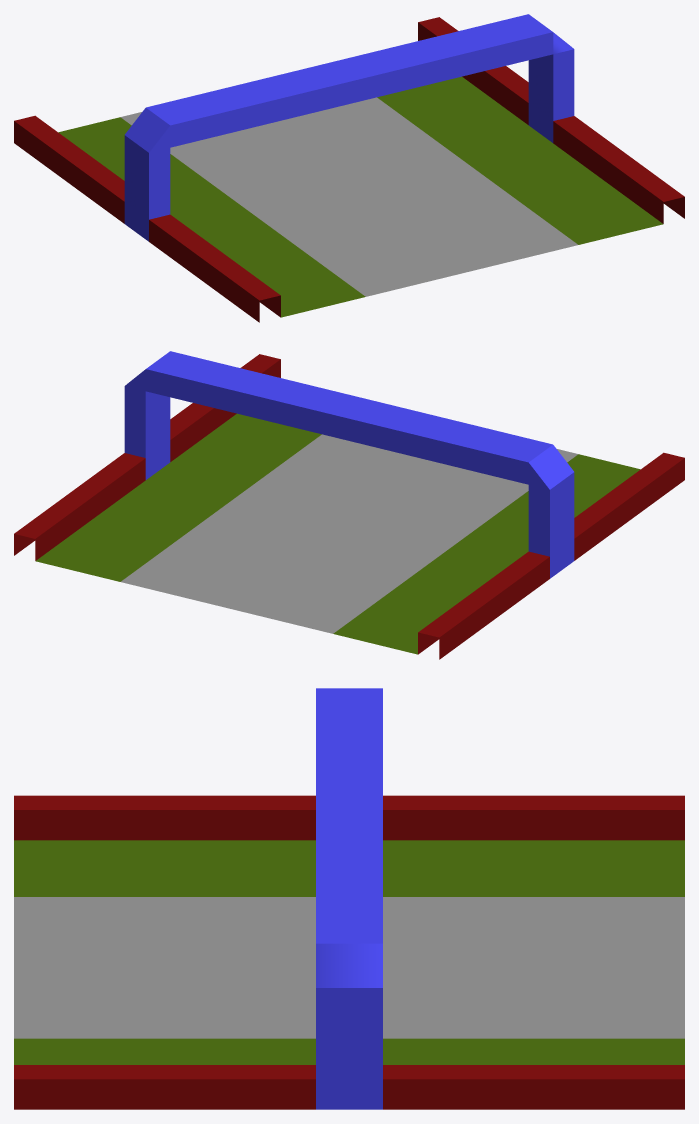
File: roadtile_checkpoint_blue.FBX
The picture shows the model from 3 angles, top to bottom: view 1: azimuth 30°, elevation 25°; view 2: azimuth 150°, elevation 25°; view 3: azimuth 270°, elevation 25°; orthographic projection. The views are drawn at different scales.
Parts seen in each view (by area): view 1: Plane006; view 2: Plane006; view 3: Plane006.
Boxes of the visible parts, x1,y1,x2,y2 form: Plane006: (14,14,684,322); Plane006: (14,351,684,659); Plane006: (14,688,684,1109).
Bounding box in the file's own units: 787 × 197 × 787.
